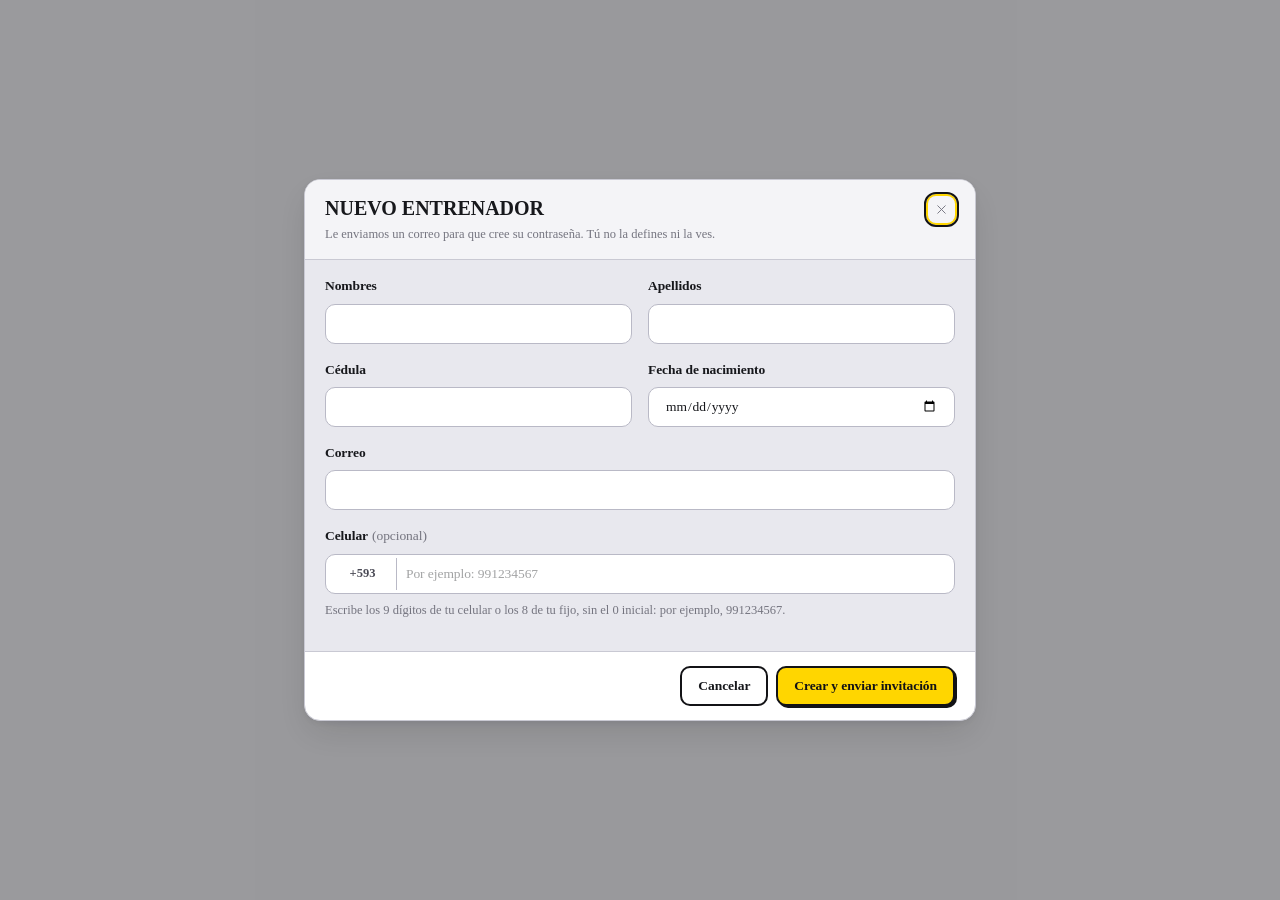
NewTrainerDialog › blocks the submit and says what is wrong with the cédula
Type "Marta" into the field labelled "Nombres" at coordinates (478, 324), box [325,304,632,344]
Type "Zambrano" into the field labelled "Apellidos" at coordinates (802, 324), box [648,304,955,344]
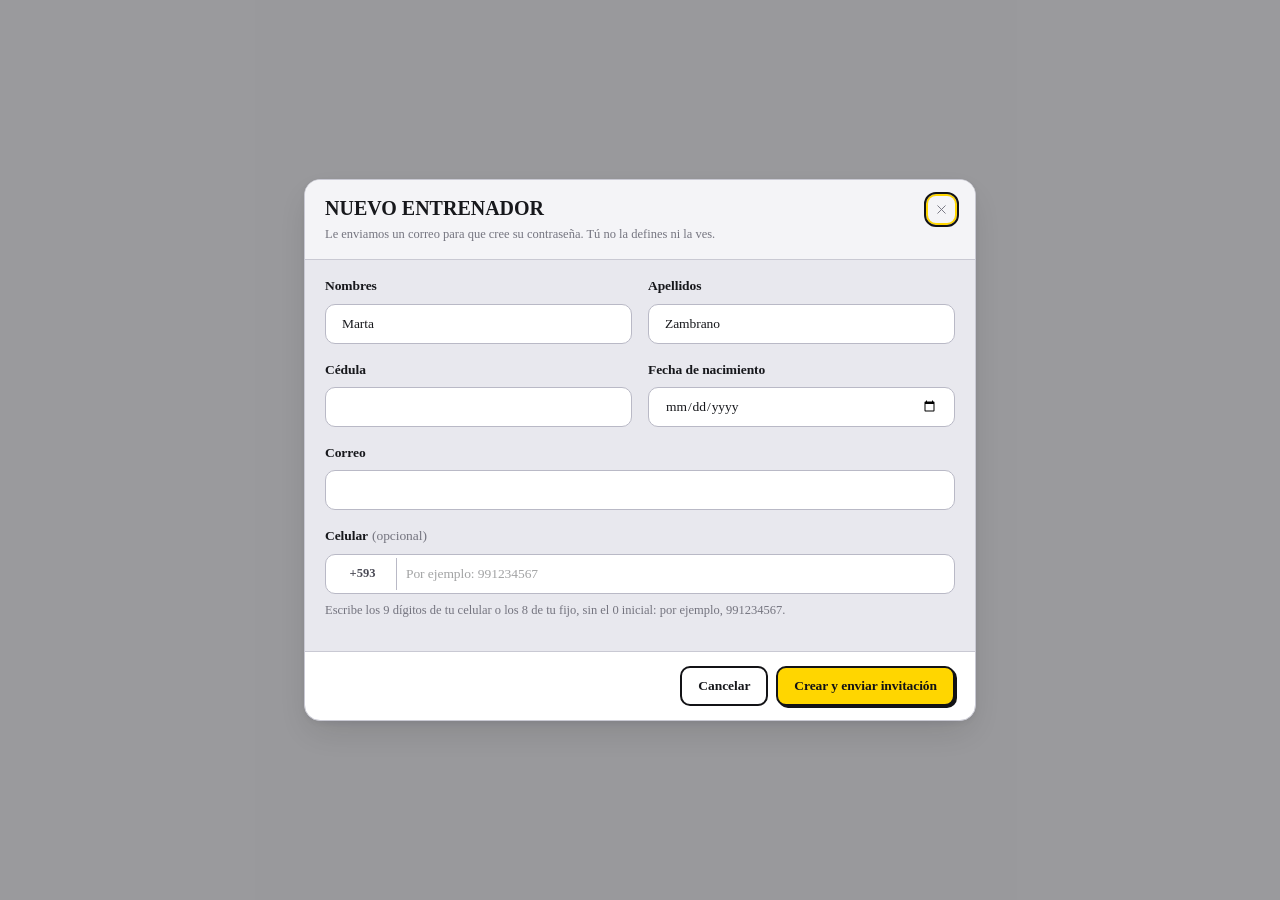
Type "1234567890" into the field labelled "Cédula" at coordinates (478, 407), box [325,387,632,427]
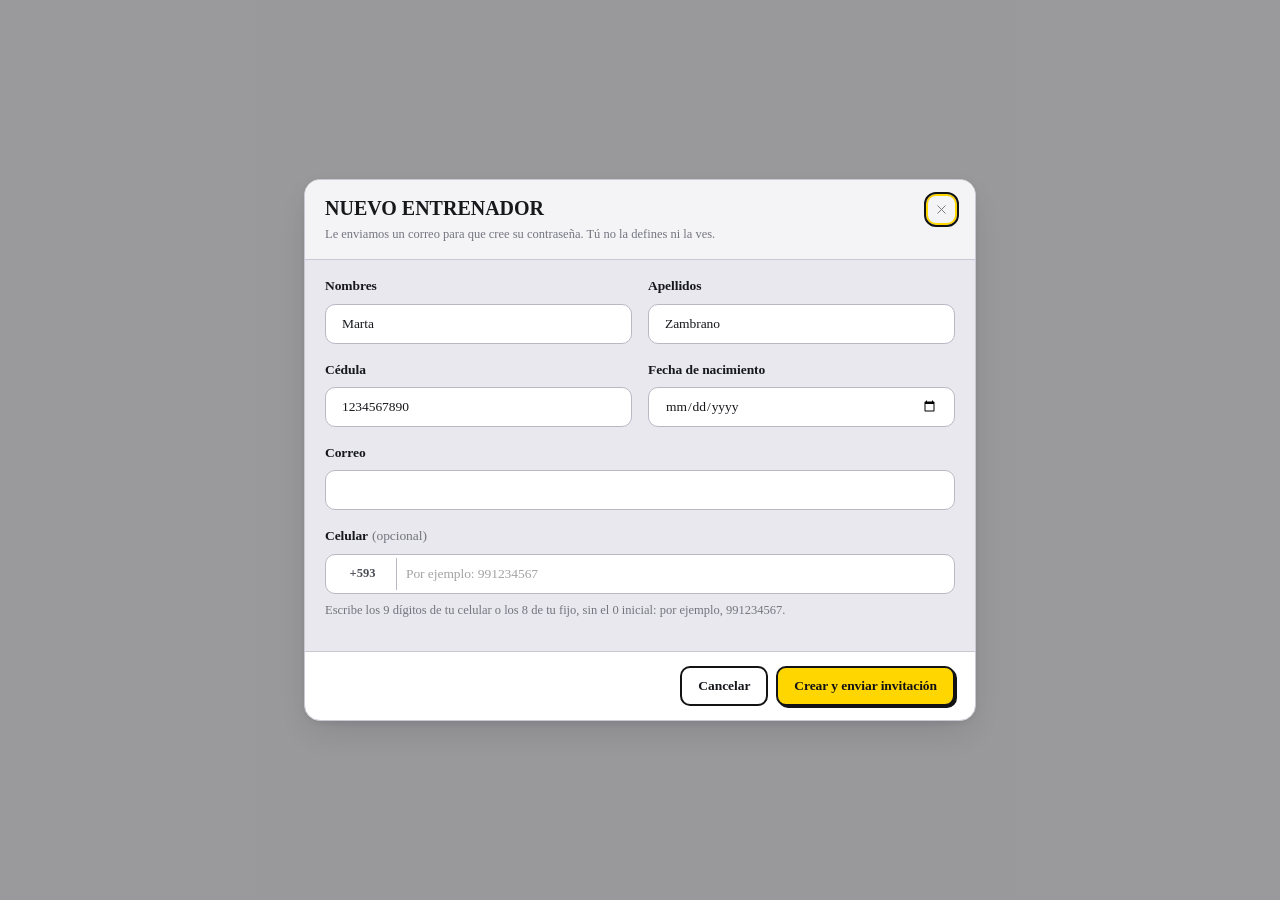
Type "1988-03-02" into the date field labelled "Fecha de nacimiento" at coordinates (802, 407), box [648,387,955,427]
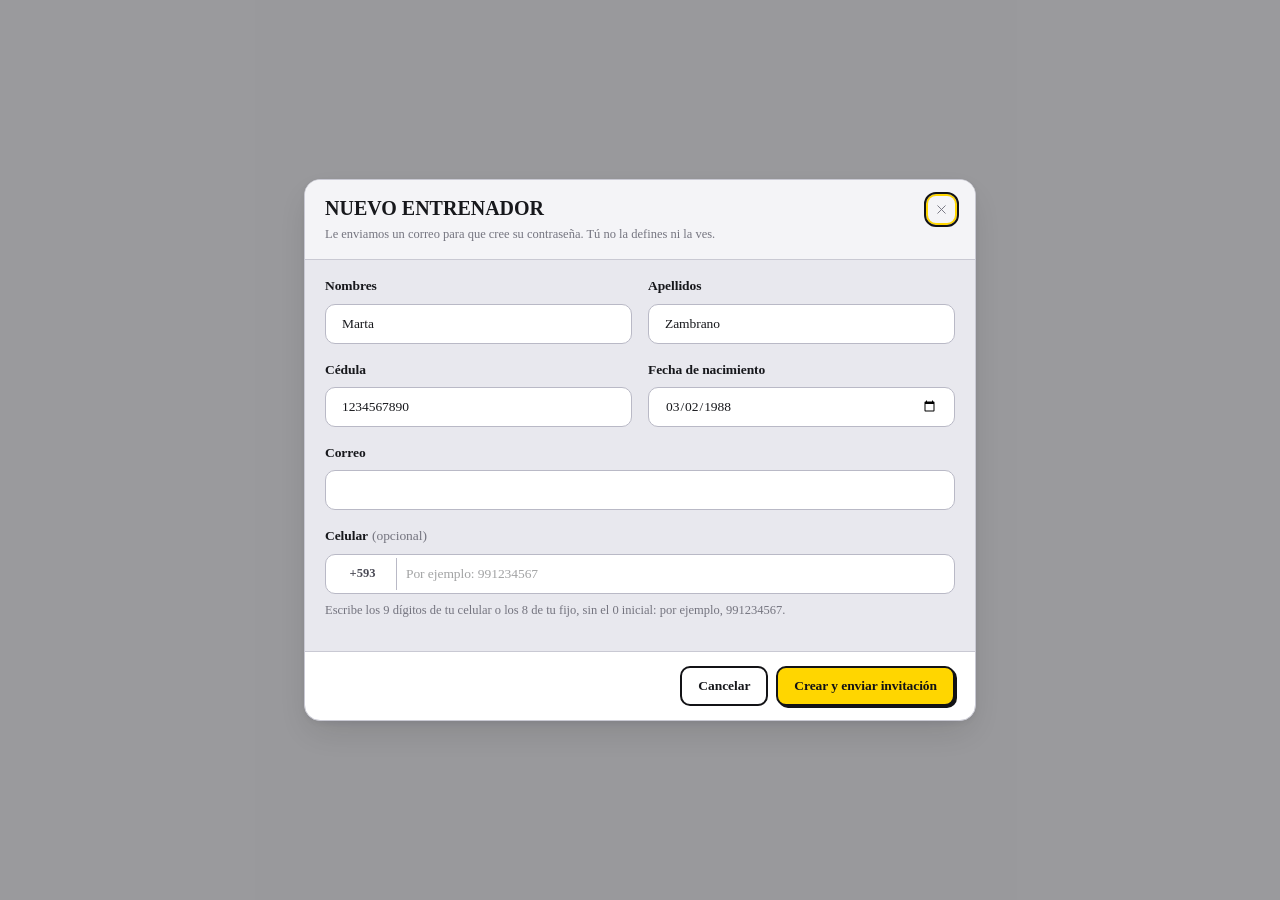
Type "marta@cataclub.com" into the field labelled "Correo" at coordinates (640, 490), box [325,470,955,510]
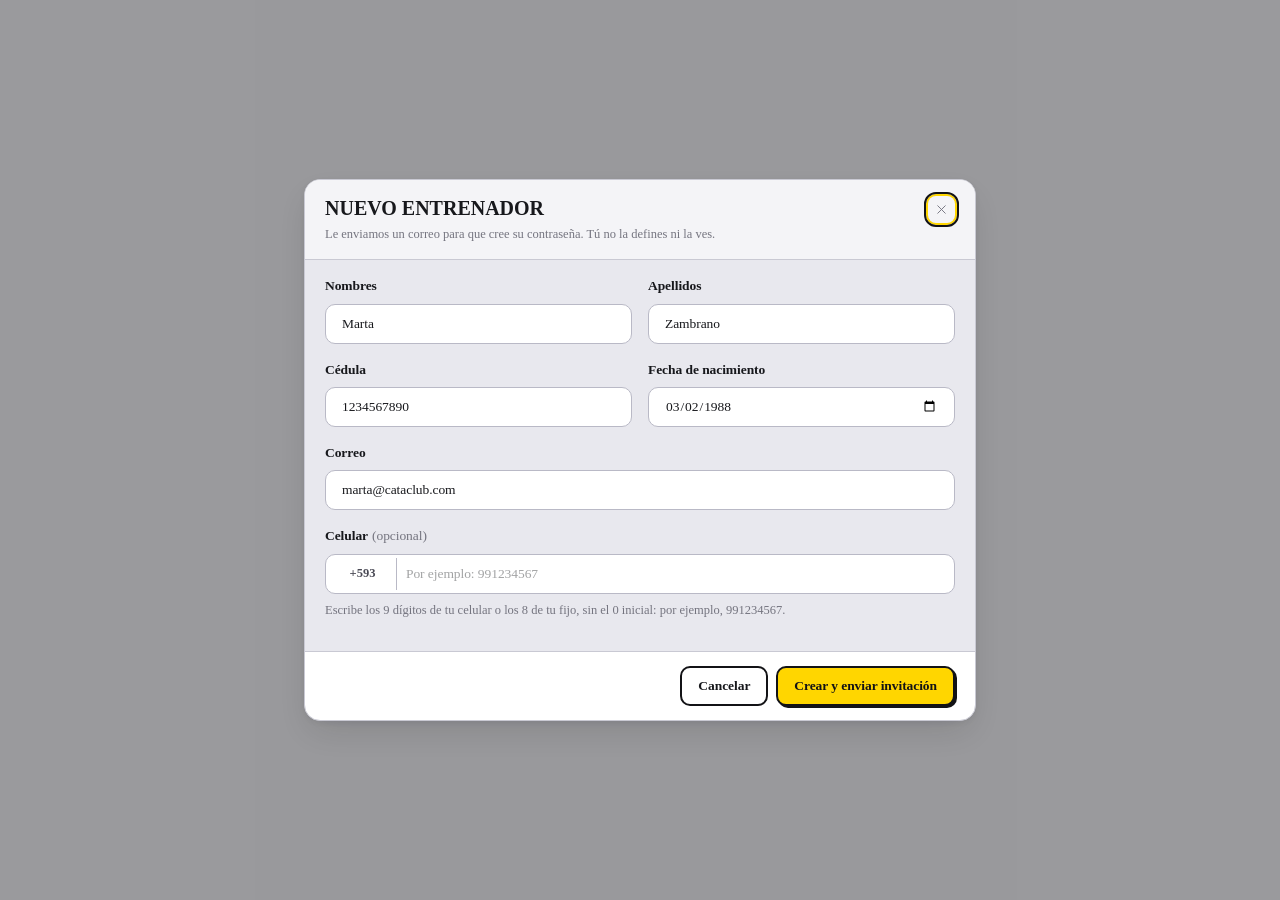
Type "0991234567" into the field labelled "Celular(opcional)" at coordinates (640, 574), box [325,554,955,594]
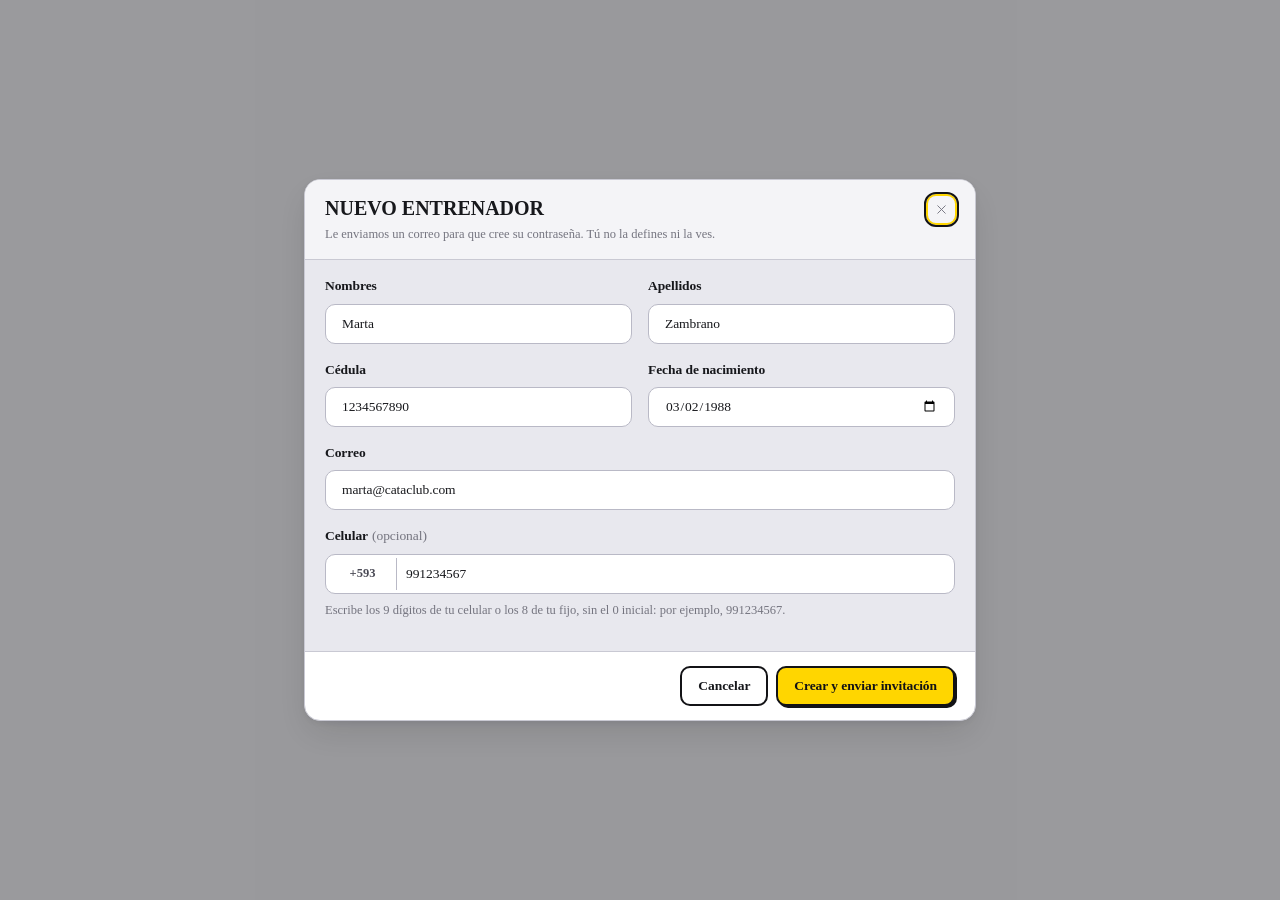
Click the button "Crear y enviar invitación" at coordinates (866, 686), box [776,666,955,706]
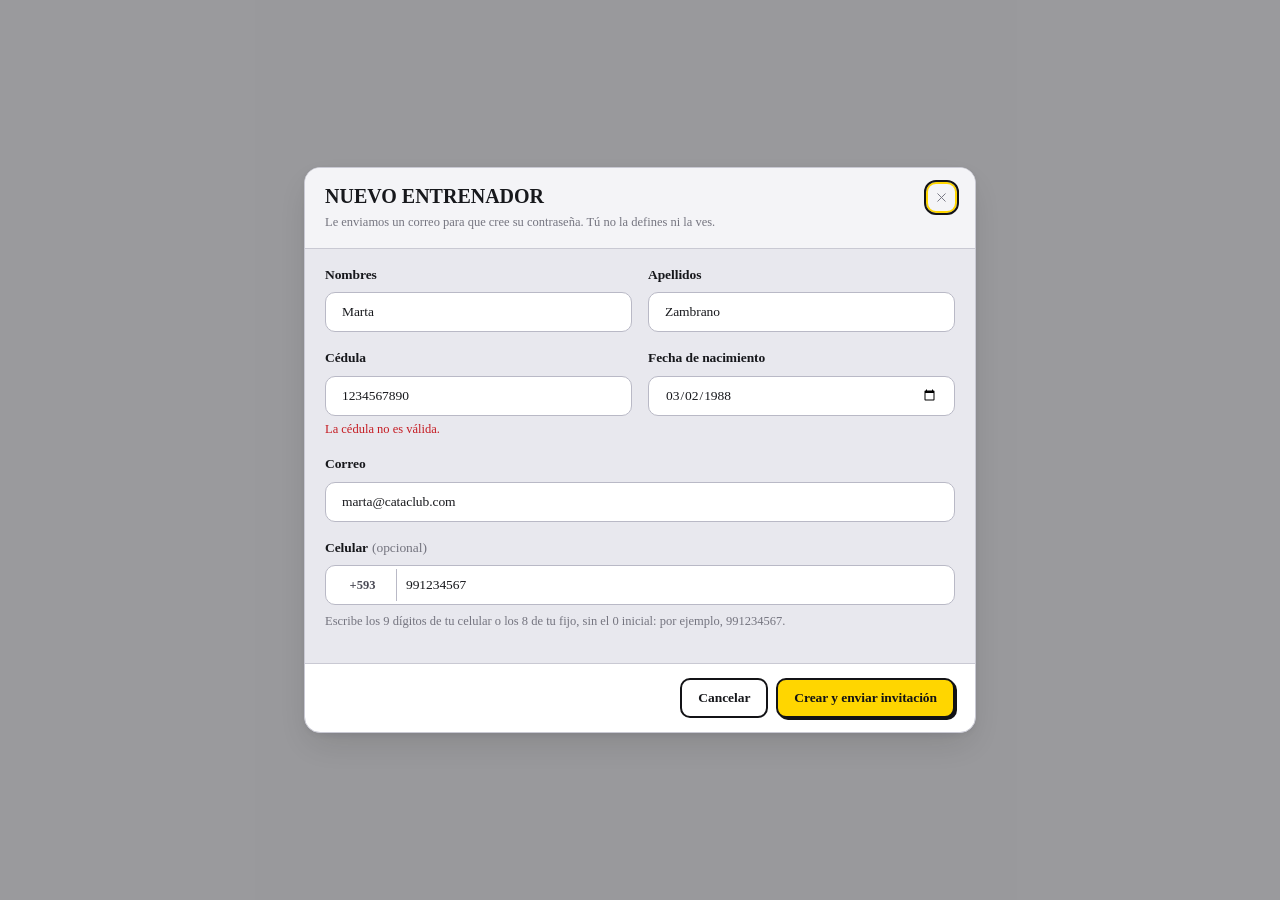
Expected: the text "La cédula no es válida." is shown, [325,422,440,436]
